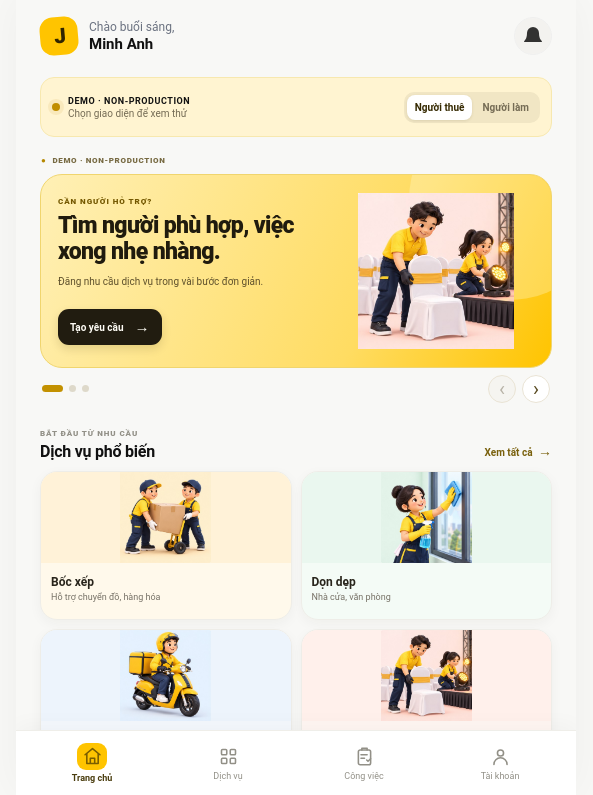
Employer core demo flows › opens the Employer profile from its own navigation and labels unsupported items
What coordinates should you click on to do the following:
click the button "Tài khoản"
I would click on:
 (500, 763)
Its box is [433, 739, 567, 787].
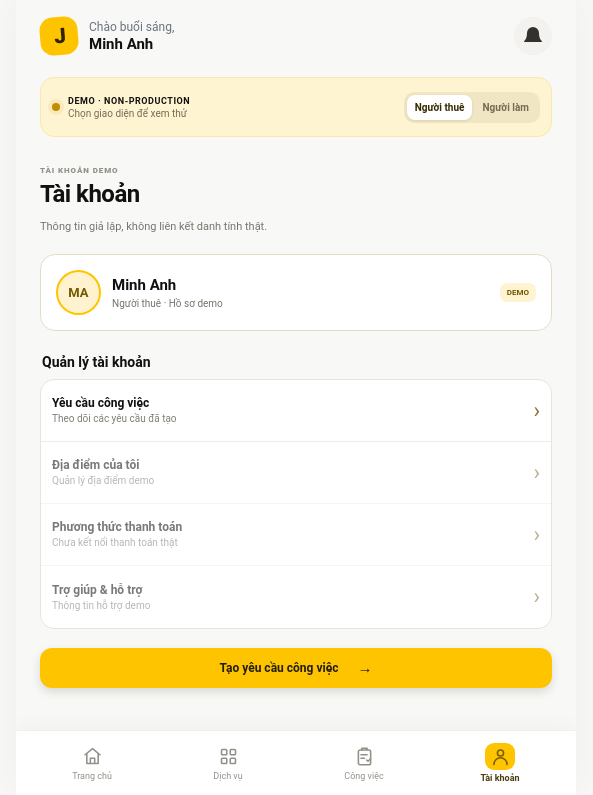
Now the heading "Tài khoản" is shown, box [40, 180, 140, 208]
Now the text "Thông tin giả lập, không liên kết danh tính thật." is shown, box [40, 220, 267, 233]
Now the button with aria-label "phương thức thanh toán, chưa hỗ trợ trong demo" is disabled, box [41, 504, 551, 566]
